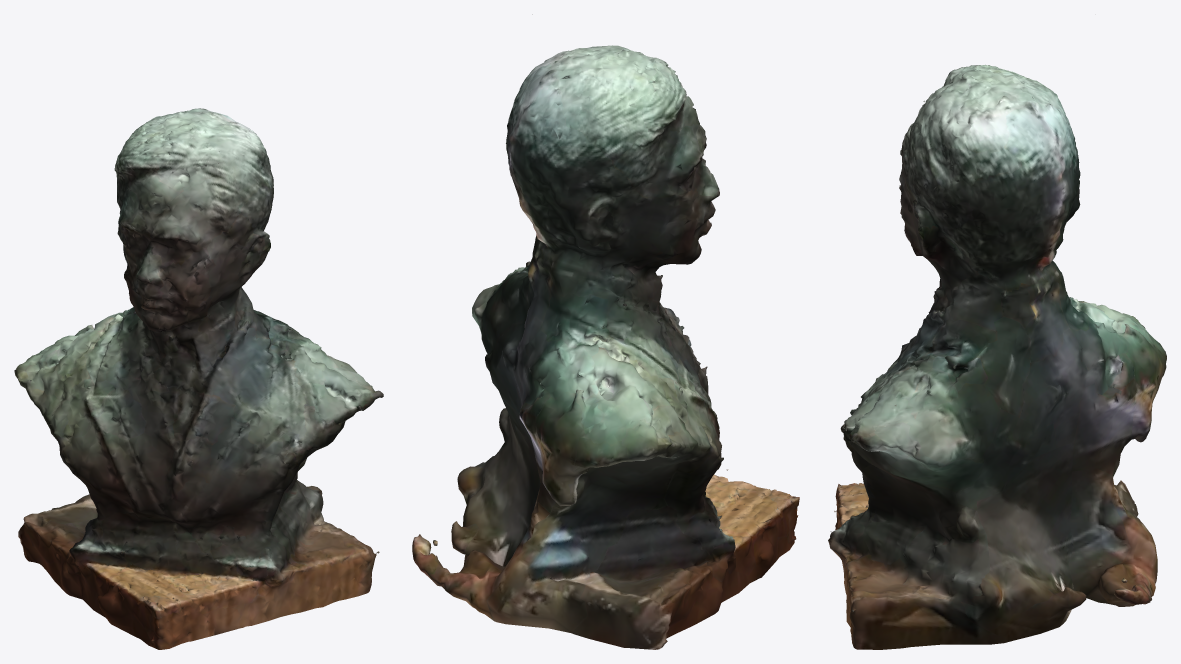
The model's file is Apacible_Bust.glb.
The picture shows the model from 3 angles, left to right: view 1: azimuth 30°, elevation 25°; view 2: azimuth 150°, elevation 25°; view 3: azimuth 270°, elevation 25°; orthographic projection. The views are drawn at different scales.
Parts seen in each view (by area): view 1: 3DModel; view 2: 3DModel; view 3: 3DModel.
Boxes of the visible parts, x1,y1,x2,y2 form: 3DModel: (14, 108, 383, 649); 3DModel: (412, 14, 799, 649); 3DModel: (828, 64, 1166, 649).
Size of the model in its own units: 5.11 by 9.83 by 5.2.
Materials: 1 (1 with a texture image).
